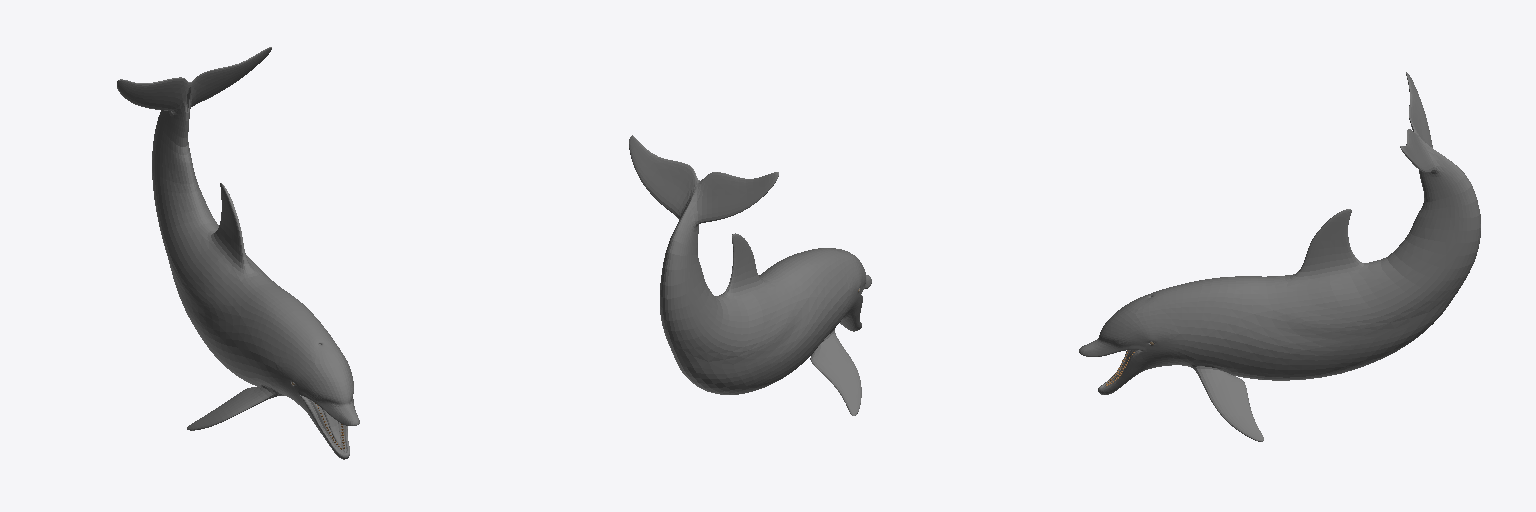
Rendered from dolphin.obj.
3 views of the same model, side by side, from view 1: azimuth 30°, elevation 25°; view 2: azimuth 150°, elevation 25°; view 3: azimuth 270°, elevation 25° (orthographic).
Visible parts, largest first — view 1: dolphin_mesh_Cube.002; view 2: dolphin_mesh_Cube.002; view 3: dolphin_mesh_Cube.002.
Boxes of the visible parts, x1,y1,x2,y2 form: dolphin_mesh_Cube.002: [117, 47, 359, 459]; dolphin_mesh_Cube.002: [629, 135, 871, 415]; dolphin_mesh_Cube.002: [1079, 72, 1480, 441].
Bounding box in the file's own units: 0.9785 × 1.77 × 2.18.